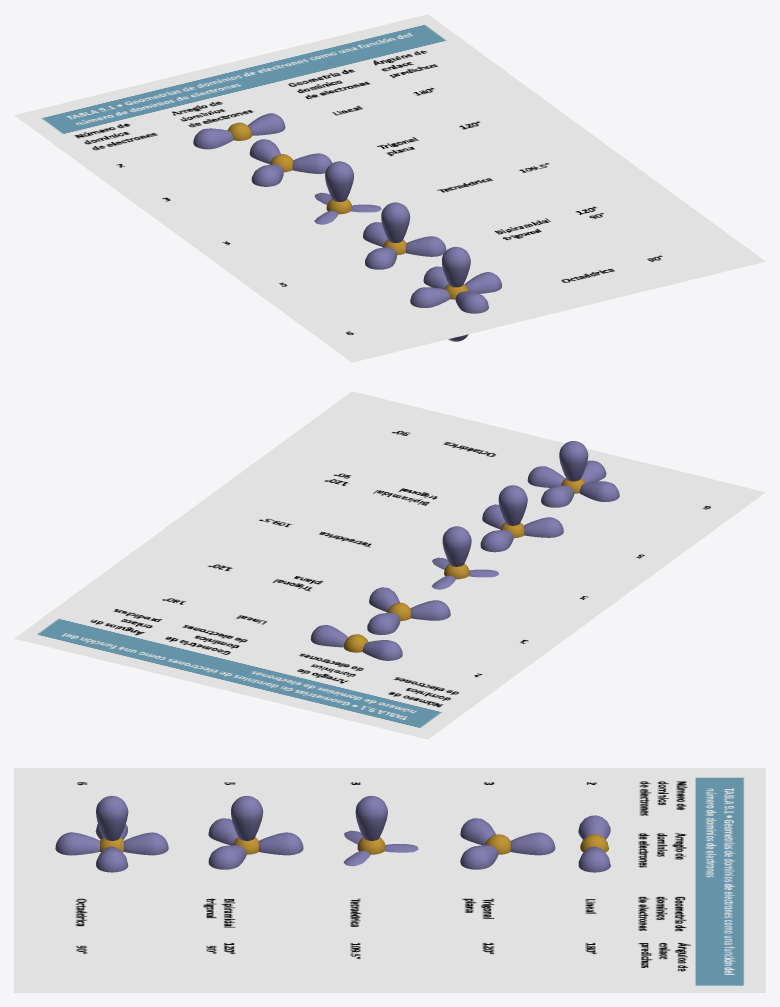
File: MeleculasLibro.glb
3 renders of one model, top to bottom at view 1: azimuth 30°, elevation 25°; view 2: azimuth 150°, elevation 25°; view 3: azimuth 270°, elevation 25°, orthographic. The views are drawn at different scales.
Parts seen in each view (by area): view 1: Tabla9.1, Octaédrica, Bipiramidal.Trigonal, Trigonal.Plana, Tetraédrica, Lineal; view 2: Tabla9.1, Octaédrica, Bipiramidal.Trigonal, Trigonal.Plana, Tetraédrica, Lineal; view 3: Tabla9.1, Octaédrica, Bipiramidal.Trigonal, Trigonal.Plana, Tetraédrica, Lineal.
Boxes of the visible parts, x1,y1,x2,y2 form: Tabla9.1: [14, 14, 765, 362]; Octaédrica: [410, 246, 501, 341]; Bipiramidal.Trigonal: [363, 202, 446, 269]; Trigonal.Plana: [249, 139, 331, 186]; Tetraédrica: [314, 161, 381, 224]; Lineal: [193, 113, 285, 149]; Tabla9.1: [14, 391, 765, 739]; Octaédrica: [527, 441, 619, 507]; Bipiramidal.Trigonal: [480, 485, 563, 552]; Trigonal.Plana: [367, 587, 450, 634]; Tetraédrica: [431, 526, 498, 589]; Lineal: [310, 625, 402, 660]; Tabla9.1: [14, 768, 765, 992]; Octaédrica: [55, 795, 168, 872]; Bipiramidal.Trigonal: [208, 795, 303, 869]; Trigonal.Plana: [460, 818, 555, 869]; Tetraédrica: [343, 796, 418, 866]; Lineal: [578, 815, 610, 872].
Bounding box in the file's own units: 3.71 × 0.7892 × 5.24.
3 materials, 1 textured.
